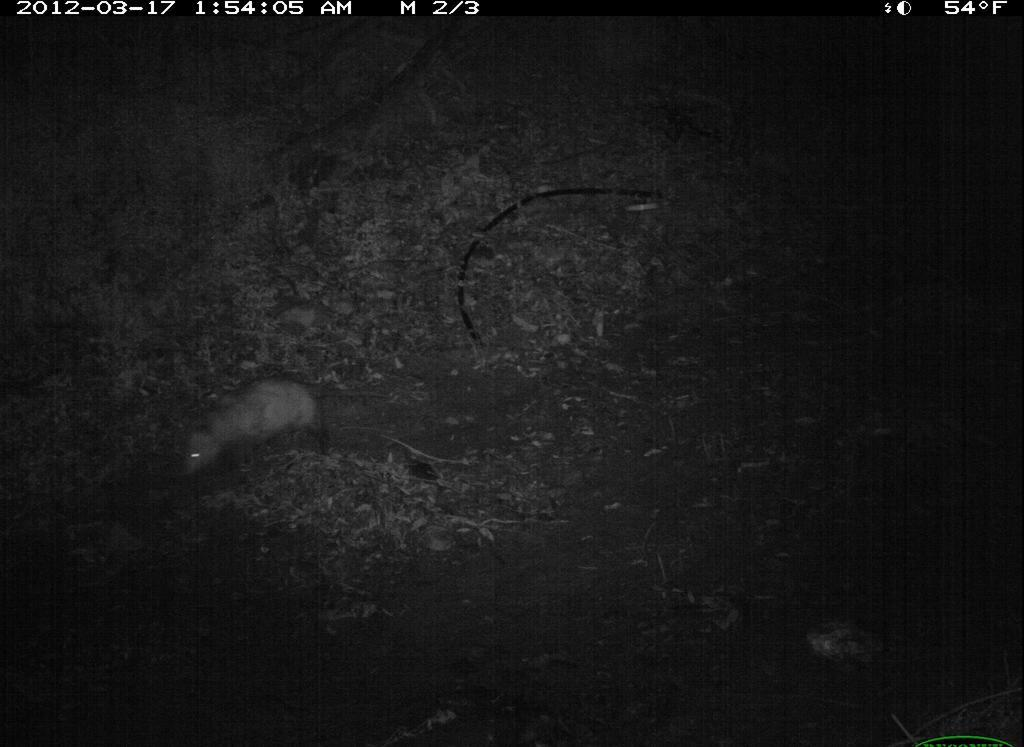opossum: (162, 373, 411, 491)
